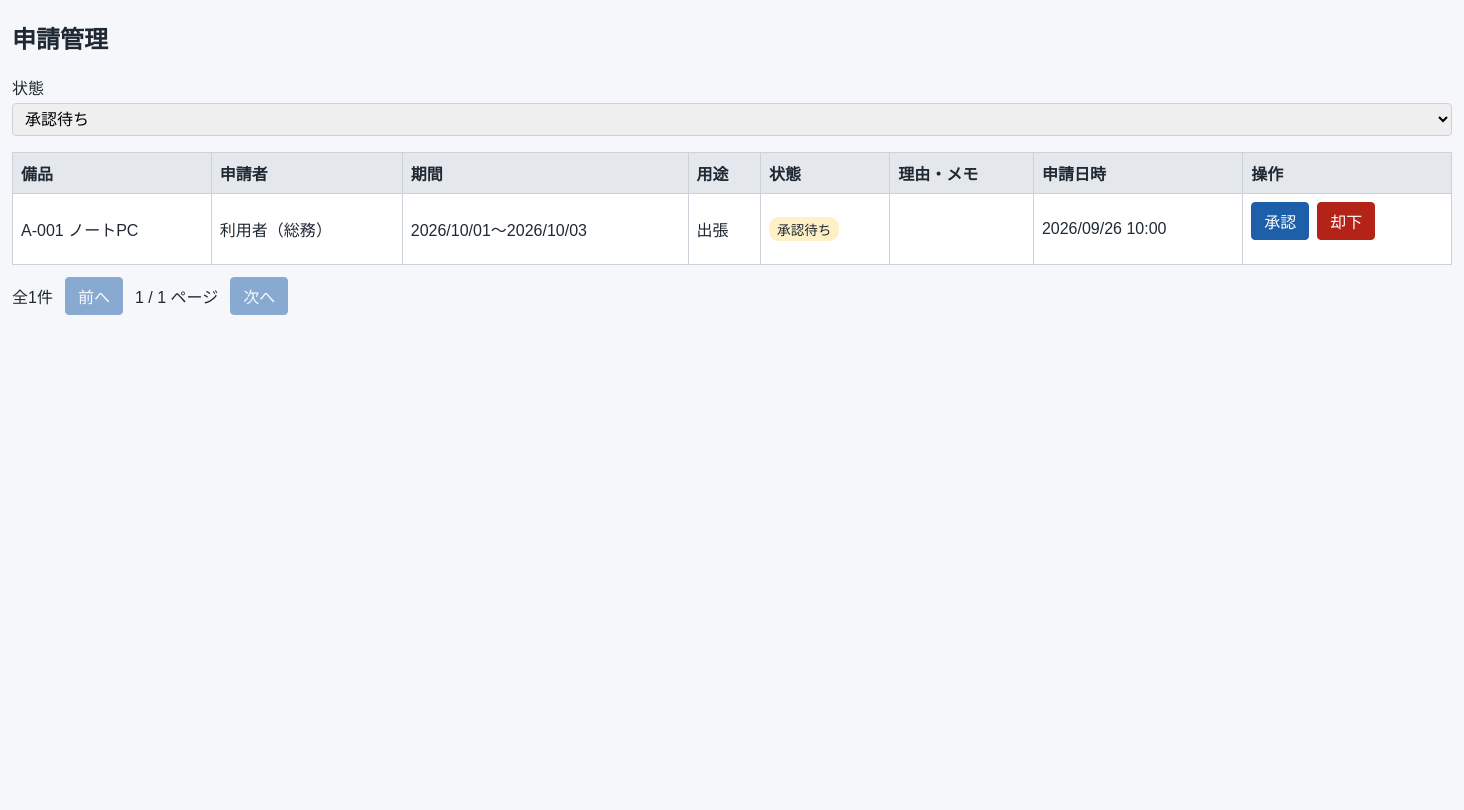
Scenario: 申請管理画面 › 項番9：却下理由を入力して「却下する」を押すと、却下APIを1回呼んで完了メッセージを表示する
Click the button "却下".
click(1346, 221)  # box [1317,202,1375,240]
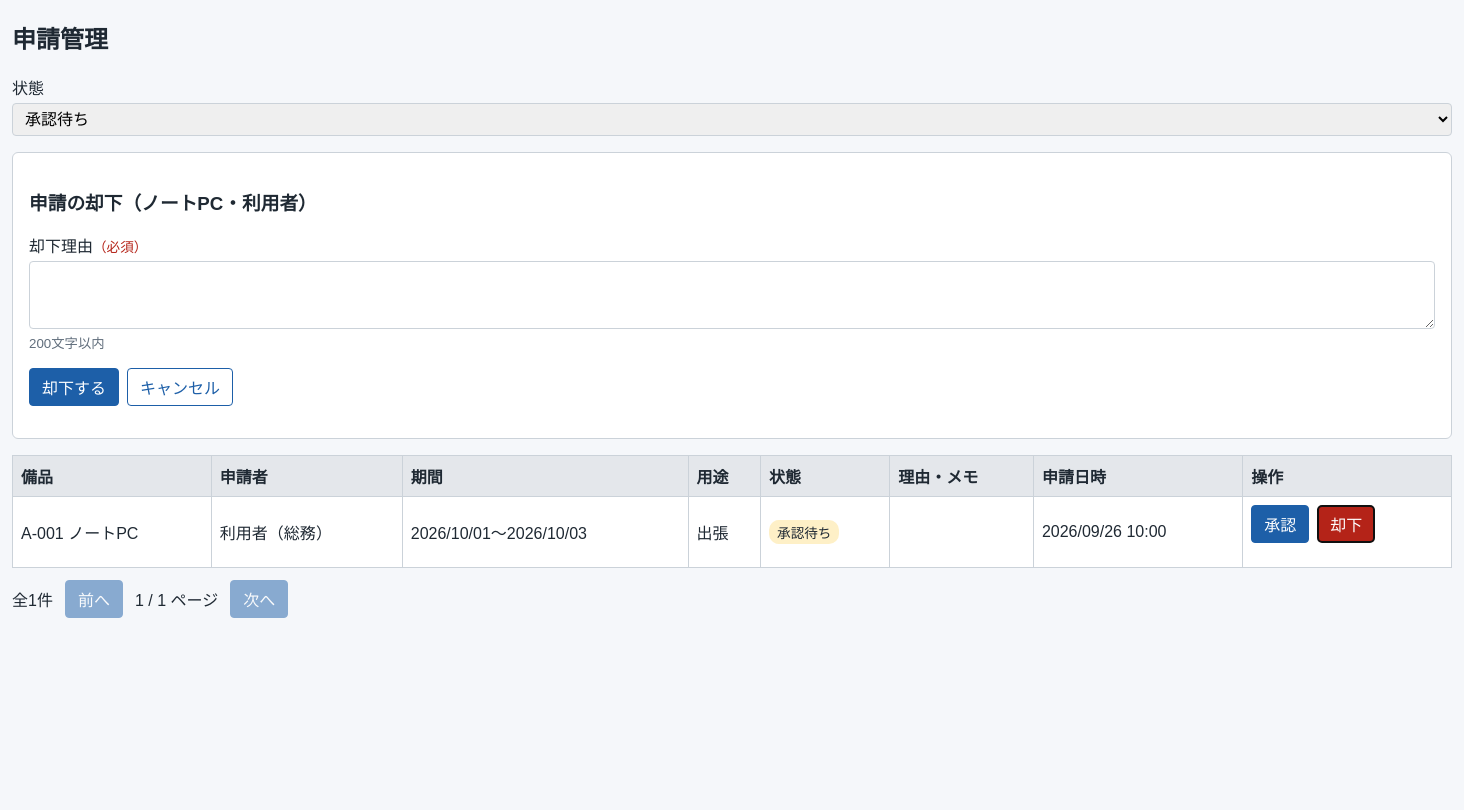
Type "在庫なし" into the text box labelled "却下理由（必須）".
click(732, 295); type("在庫なし")  # box [29,261,1435,329]
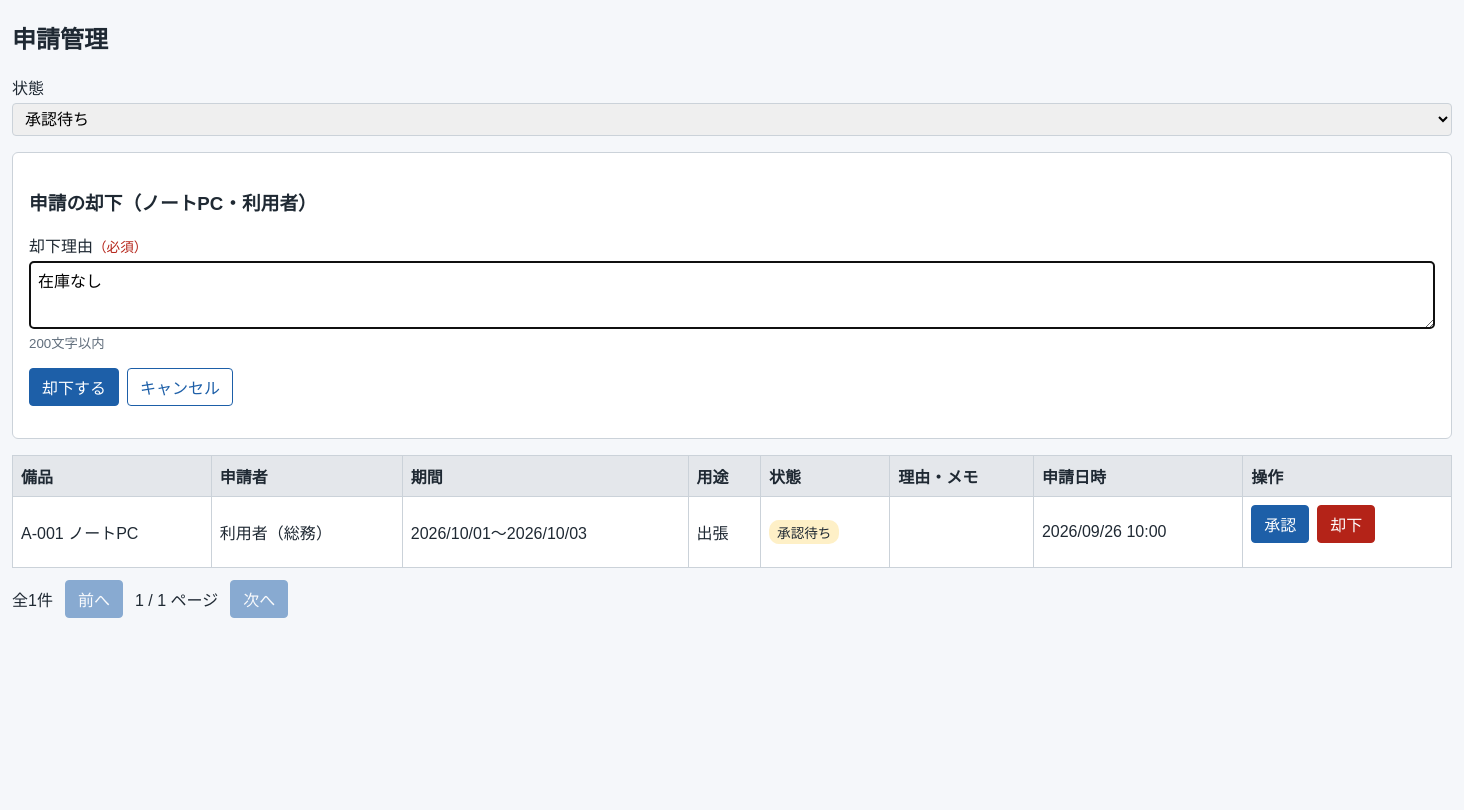
Click the button "却下する".
click(74, 387)  # box [29,368,119,406]
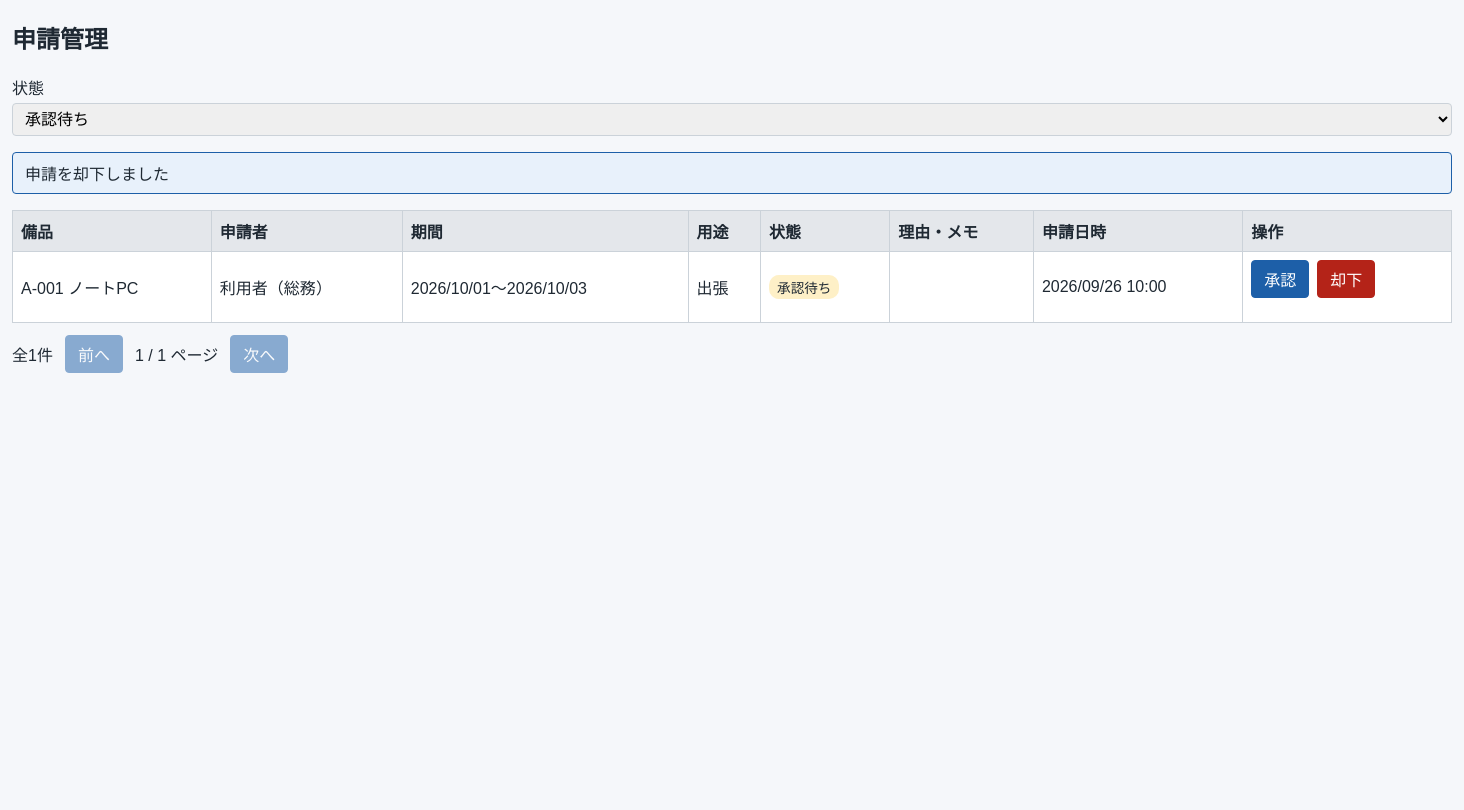
Check: the message reads "申請を却下しました", box [25,166,169,183]
